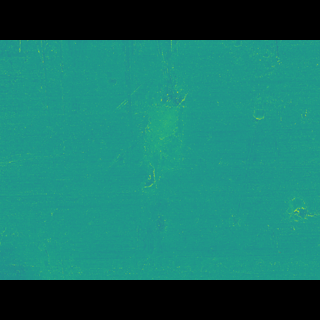Loch: (127, 89, 192, 188), (280, 185, 309, 207)
